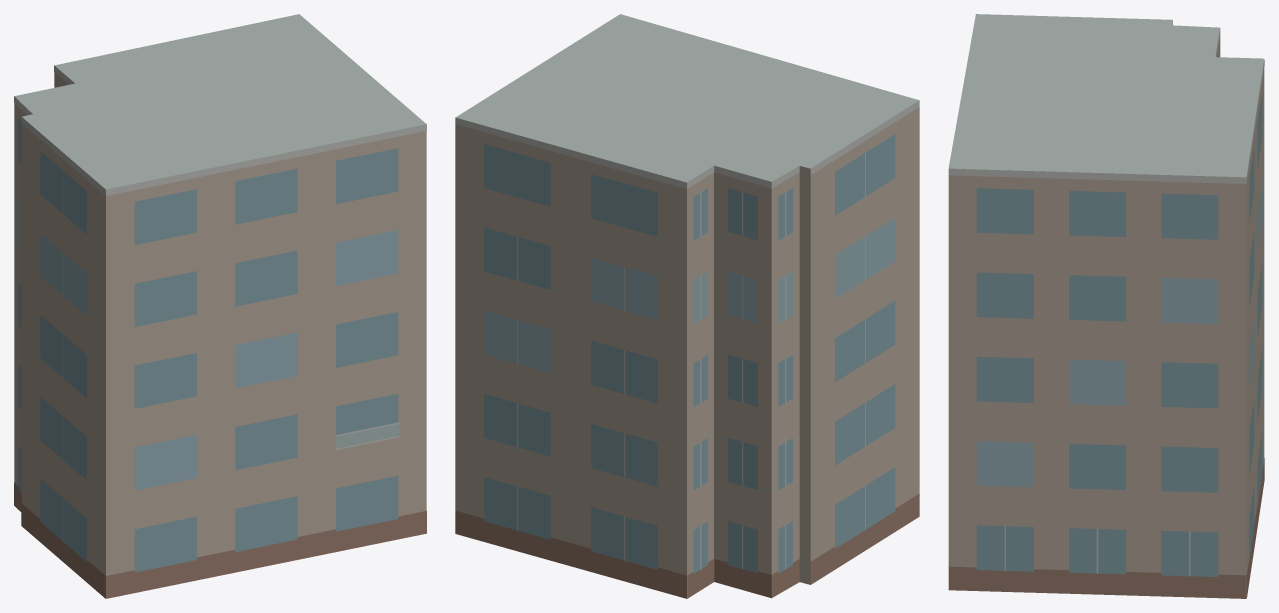
Rendered from survey-upis-33009161.glb.
3 views of the same model, side by side, from view 1: azimuth 30°, elevation 25°; view 2: azimuth 150°, elevation 25°; view 3: azimuth 270°, elevation 25° (orthographic). The views are drawn at different scales.
Visible parts, largest first — view 1: survey-upis-33009161.tmp; view 2: survey-upis-33009161.tmp; view 3: survey-upis-33009161.tmp.
Boxes of the visible parts, x1,y1,x2,y2 form: survey-upis-33009161.tmp: (14, 14, 426, 598); survey-upis-33009161.tmp: (455, 14, 919, 598); survey-upis-33009161.tmp: (948, 14, 1264, 598).
Bounding box in the file's own units: 12.64 × 15.2 × 10.34.
